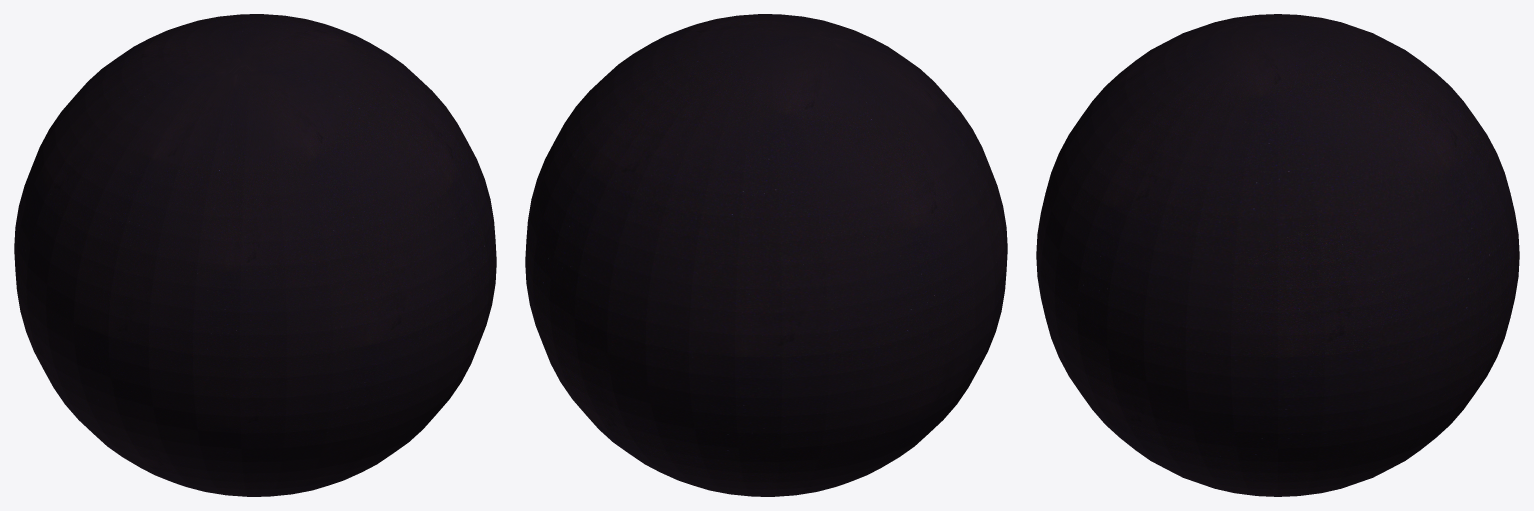
Rendered from environment.dae.
The picture shows the model from 3 angles, left to right: view 1: azimuth 30°, elevation 25°; view 2: azimuth 150°, elevation 25°; view 3: azimuth 270°, elevation 25°; orthographic projection.
Parts seen in each view (by area): view 1: Sphere; view 2: Sphere; view 3: Sphere.
Part boxes in pixels (left/top/right/bottom): Sphere: left=14, top=14, right=496, bottom=496; Sphere: left=525, top=14, right=1007, bottom=496; Sphere: left=1036, top=14, right=1519, bottom=496.
Bounding box in the file's own units: 594 × 594 × 594.
Materials: 1 (1 with a texture image).
